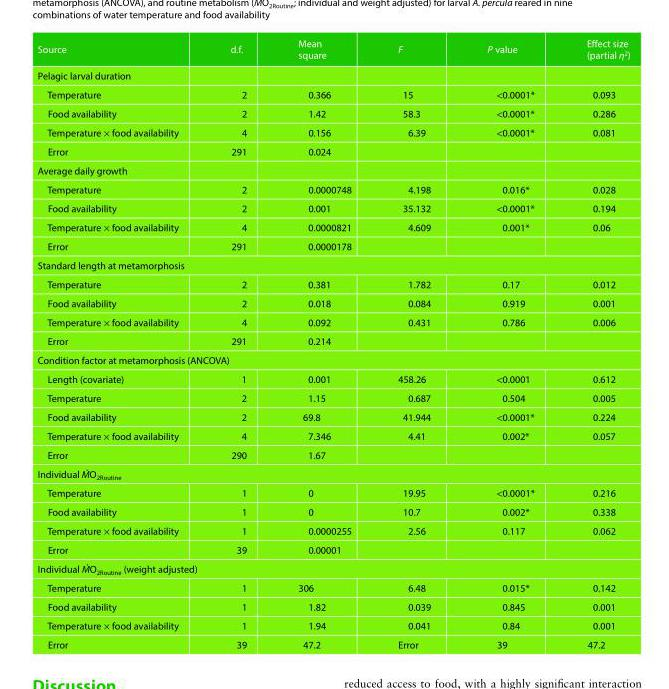table: (36, 36, 629, 650)
table column: (36, 36, 229, 650), (271, 36, 374, 650), (458, 36, 559, 650), (374, 36, 458, 650), (559, 36, 629, 650), (229, 36, 271, 650)
table column header: (36, 36, 629, 64)
table projected row header: (36, 461, 629, 483), (36, 556, 629, 578), (36, 64, 629, 84), (36, 160, 629, 179), (36, 255, 629, 274), (36, 350, 629, 368)
table row: (36, 36, 629, 64), (36, 461, 629, 483), (36, 556, 629, 578), (36, 64, 629, 84), (36, 311, 629, 331), (36, 368, 629, 388), (36, 425, 629, 445), (36, 84, 629, 103), (36, 103, 629, 122), (36, 122, 629, 141), (36, 141, 629, 160), (36, 160, 629, 179), (36, 179, 629, 198), (36, 198, 629, 217), (36, 217, 629, 236), (36, 236, 629, 255), (36, 255, 629, 274), (36, 274, 629, 293), (36, 331, 629, 350), (36, 406, 629, 425), (36, 501, 629, 520), (36, 520, 629, 539), (36, 596, 629, 615), (36, 615, 629, 634), (36, 293, 629, 311), (36, 350, 629, 368), (36, 388, 629, 406), (36, 483, 629, 501), (36, 578, 629, 596), (36, 539, 629, 556), (36, 445, 629, 461), (36, 634, 629, 650)
